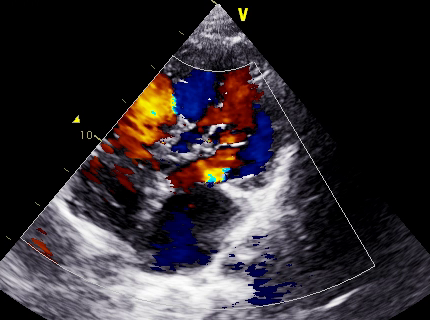MR: (179, 126, 267, 218)
